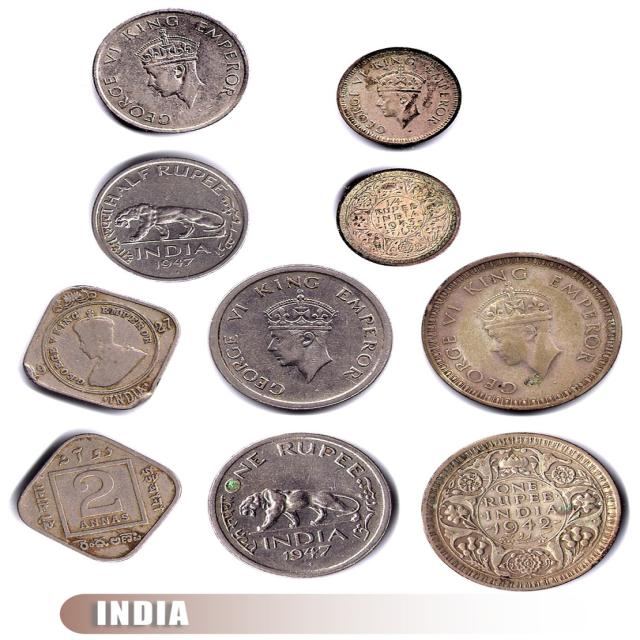Coin: (420, 429, 625, 590), (419, 256, 627, 412), (202, 441, 402, 581), (13, 428, 181, 557), (88, 5, 250, 136), (22, 280, 181, 408), (92, 155, 243, 280), (335, 40, 465, 146), (337, 164, 466, 268)
